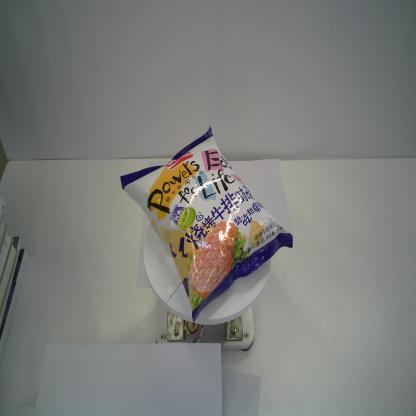Puffed Food: (120, 125, 293, 326)
